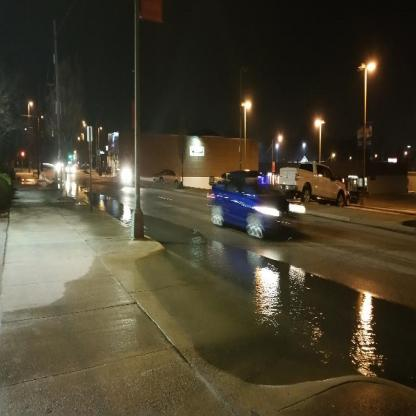Car: (208, 173, 311, 243), (155, 168, 183, 187)
